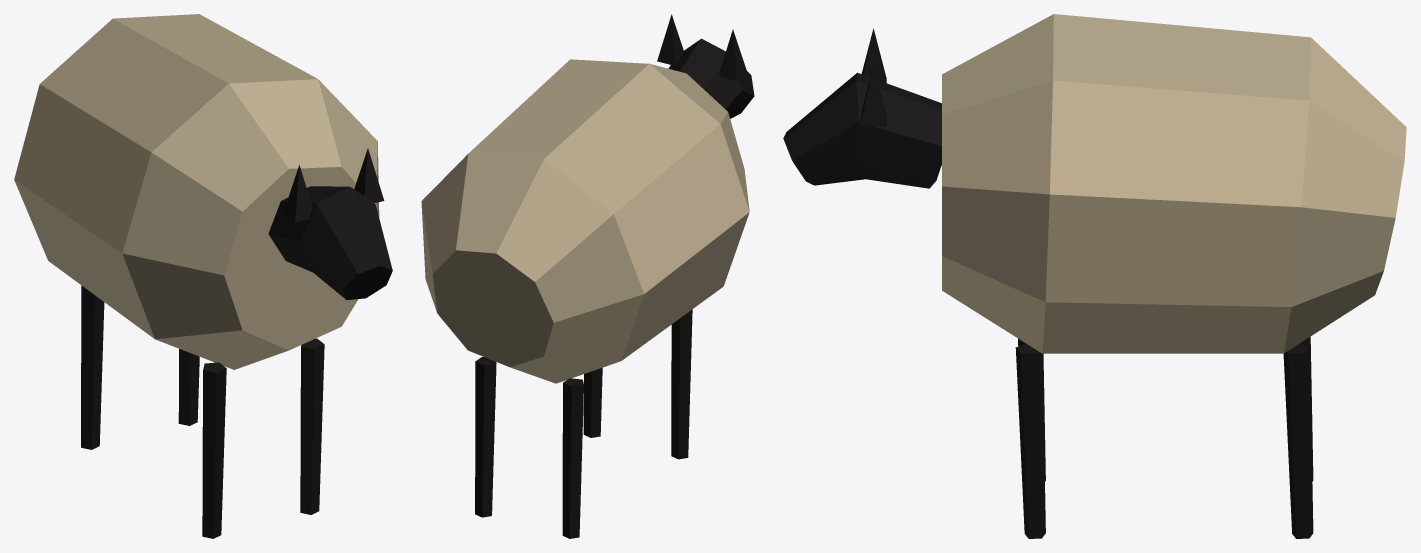
Rendered from walk_animal_sheep.glb.
3 renders of one model, left to right at view 1: azimuth 30°, elevation 25°; view 2: azimuth 150°, elevation 25°; view 3: azimuth 270°, elevation 25°, orthographic. The views are drawn at different scales.
Visible parts, largest first — view 1: walk_animal_sheep; view 2: walk_animal_sheep; view 3: walk_animal_sheep.
Part boxes in pixels (<box>): walk_animal_sheep: <box>14,14,392,538</box>; walk_animal_sheep: <box>421,14,754,538</box>; walk_animal_sheep: <box>783,14,1406,538</box>.
Bounding box in the file's own units: 0.5237 × 0.8561 × 1.
1 material, 1 textured.
